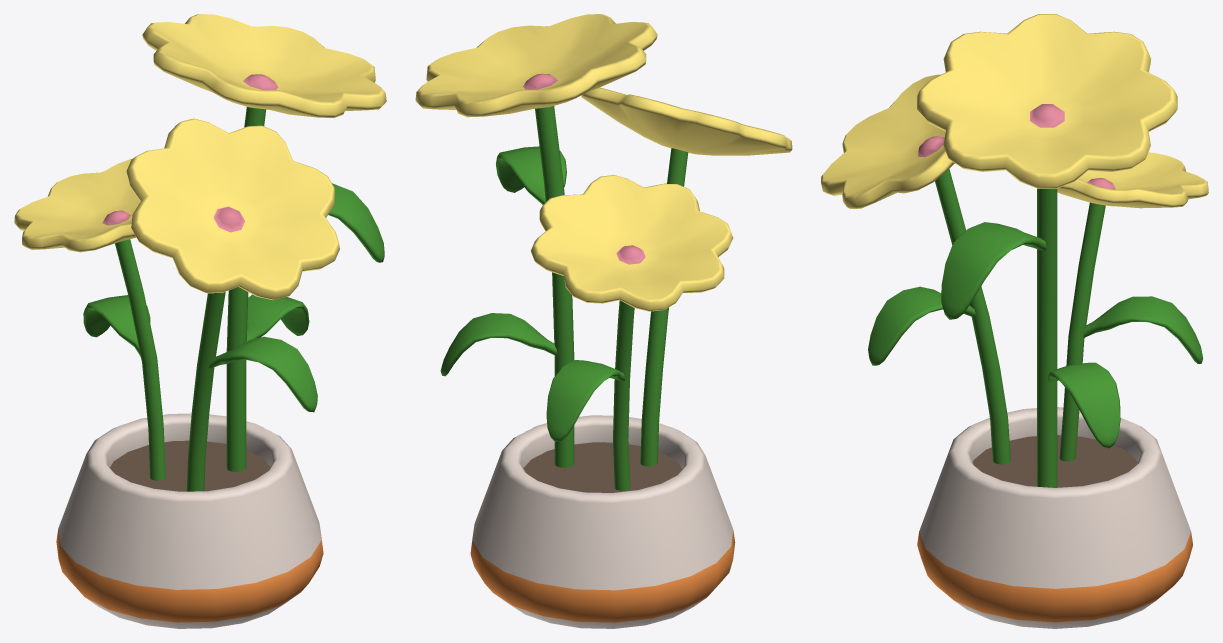
The model's file is flower.fbx.
The picture shows the model from 3 angles, left to right: view 1: azimuth 30°, elevation 25°; view 2: azimuth 150°, elevation 25°; view 3: azimuth 270°, elevation 25°; orthographic projection. The views are drawn at different scales.
Visible parts, largest first — view 1: Flower; view 2: Flower; view 3: Flower.
Boxes of the visible parts, left/top/right/bottom form: Flower: left=14, top=14, right=386, bottom=628; Flower: left=415, top=14, right=792, bottom=628; Flower: left=821, top=14, right=1208, bottom=628.
Bounding box in the file's own units: 1.22 × 1.98 × 1.25.
